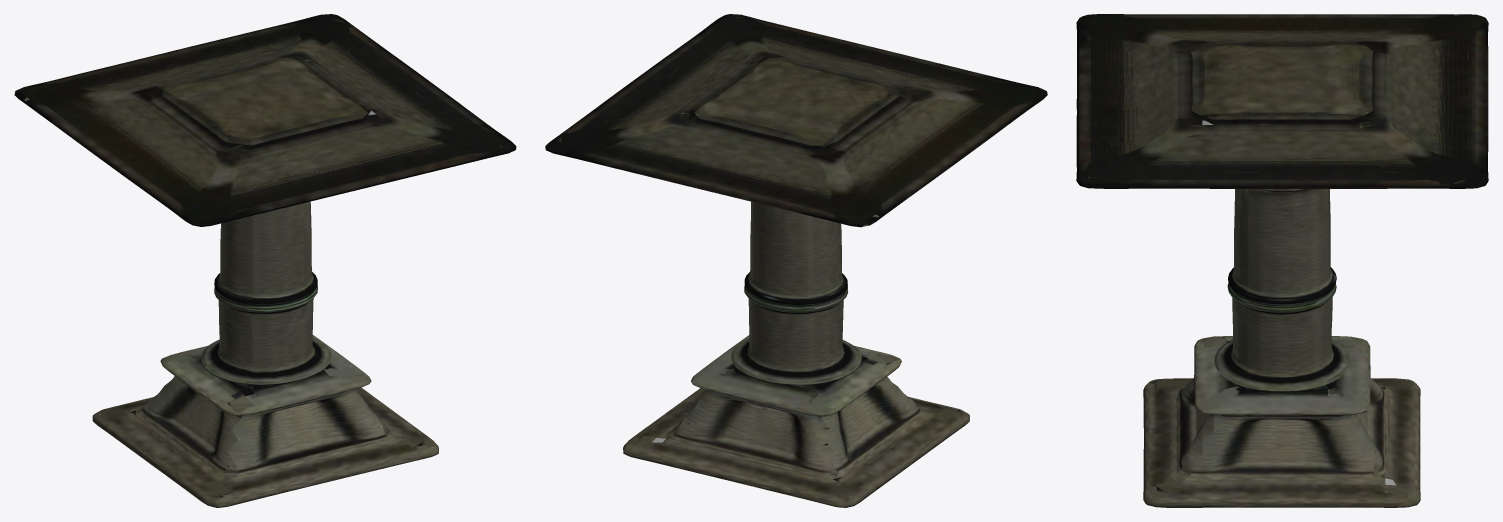
The model's file is street-lamp.glb.
3 views of the same model, side by side, from view 1: azimuth 30°, elevation 25°; view 2: azimuth 150°, elevation 25°; view 3: azimuth 270°, elevation 25° (orthographic). The views are drawn at different scales.
Visible parts, largest first — view 1: tmp4ce0wee7.ply; view 2: tmp4ce0wee7.ply; view 3: tmp4ce0wee7.ply.
Boxes of the visible parts, bbox=[...] form: tmp4ce0wee7.ply: bbox=[14, 14, 516, 507]; tmp4ce0wee7.ply: bbox=[545, 14, 1047, 507]; tmp4ce0wee7.ply: bbox=[1076, 14, 1488, 507].
Bounding box in the file's own units: 1 × 1 × 1.
Materials: 1 (1 with a texture image).
